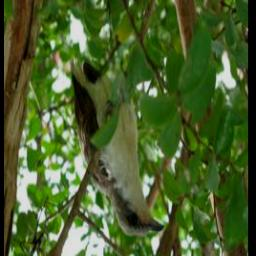Cuckoo: (69, 53, 162, 239)
